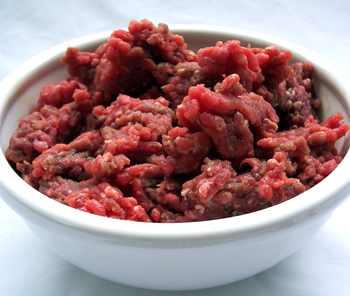ground_beef: (28, 95, 237, 207), (83, 28, 257, 112), (253, 64, 322, 180)
